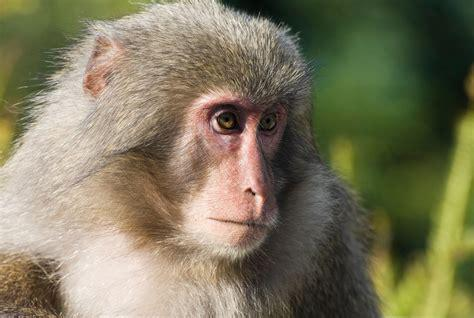monkey: (1, 2, 377, 318)
